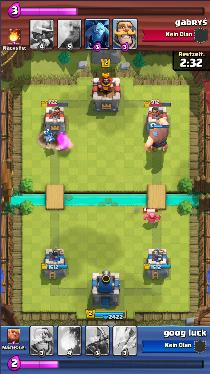ally_giant: (146, 118, 170, 152)
ally_minion: (45, 131, 53, 141), (43, 135, 51, 143)
enemy_mini_pekka: (141, 211, 161, 224)
